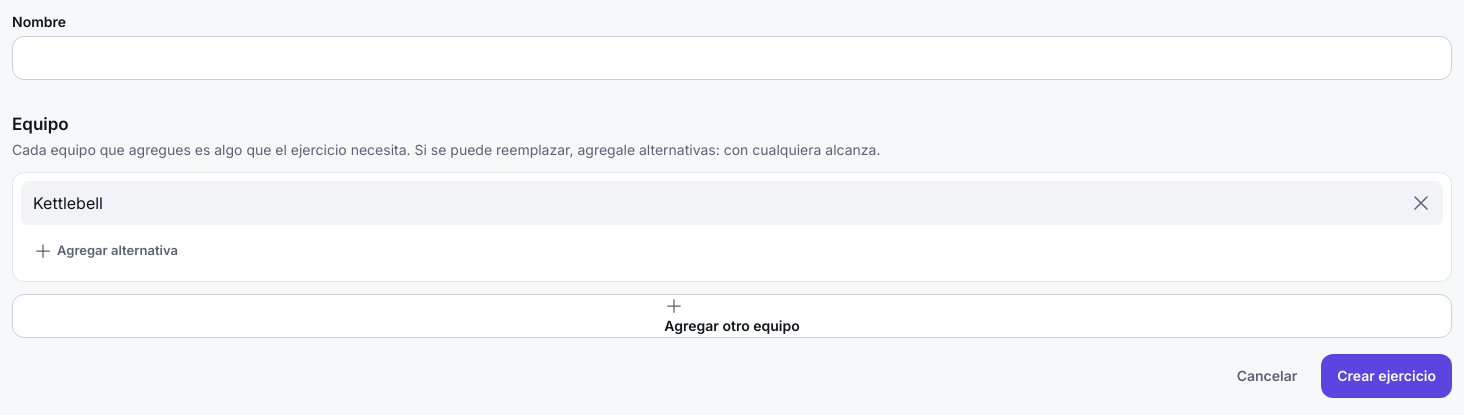
Test: ExerciseForm › quitar el único elemento de un grupo hace desaparecer la tarjeta completa
Expected: the text "Kettlebell" is shown, left=33, top=193, right=103, bottom=213
Click the button named "Quitar Kettlebell": [1421, 203] box left=1399, top=181, right=1443, bottom=225
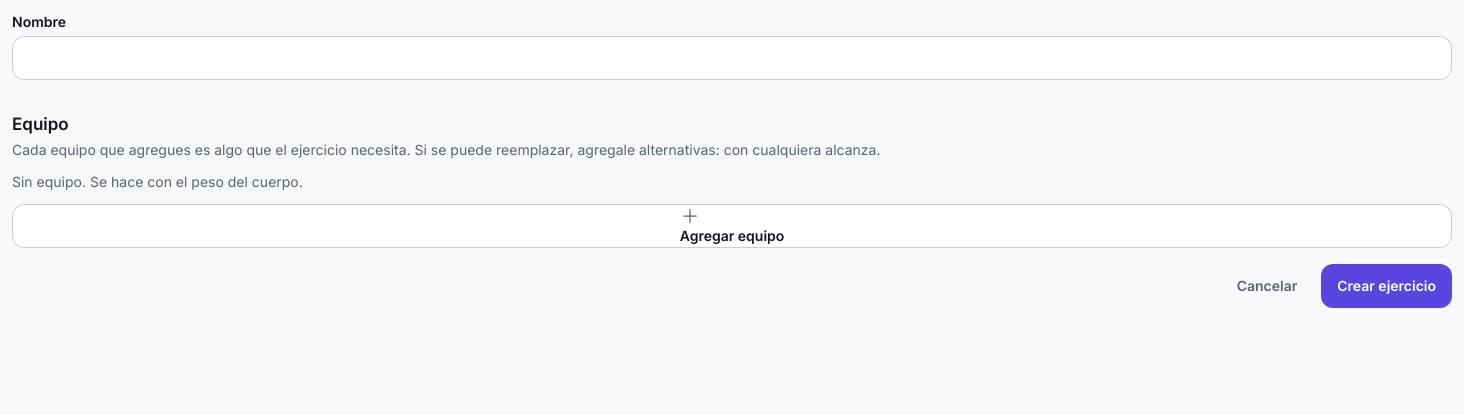
Result: the text "Kettlebell" is gone
Result: the text "Sin equipo. Se hace con el peso del cuerpo." is shown at left=12, top=173, right=303, bottom=190
